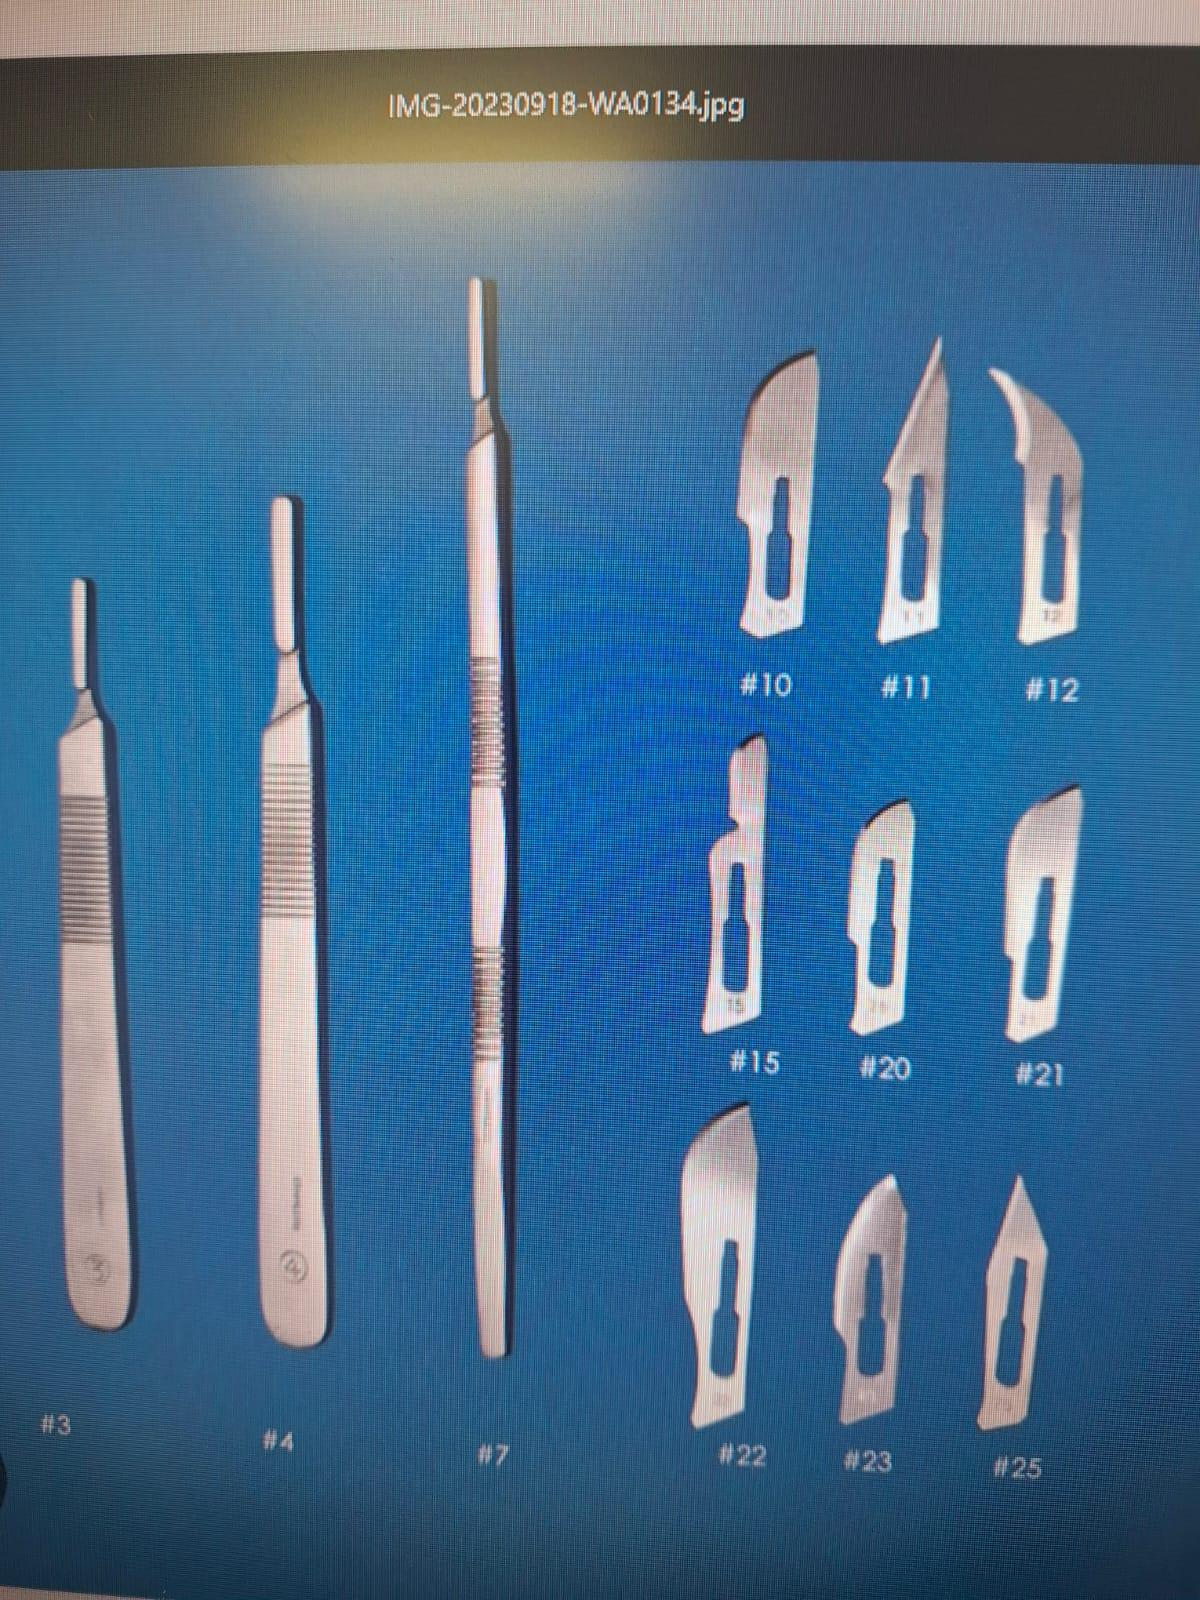Knife Blade: (640, 1090, 790, 1432), (693, 330, 845, 650), (978, 768, 1115, 1045), (982, 338, 1095, 655), (828, 780, 935, 1070), (815, 1165, 932, 1425), (865, 322, 950, 652), (970, 1165, 1065, 1430)
Knife Handle: (225, 465, 368, 1370), (27, 555, 183, 1350)
